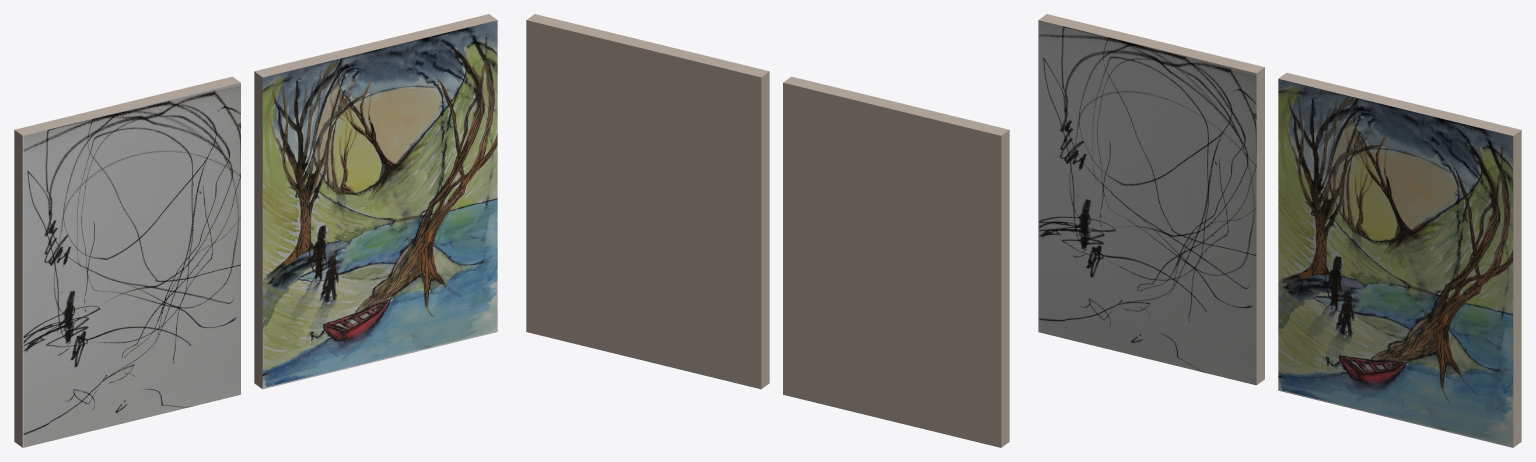
3 renders of one model, left to right at view 1: azimuth 30°, elevation 25°; view 2: azimuth 150°, elevation 25°; view 3: azimuth 330°, elevation 25°, orthographic.
Visible parts, largest first — view 1: Paint.08-1; view 2: Paint.08-1; view 3: Paint.08-1.
Boxes of the visible parts, x1,y1,x2,y2 form: Paint.08-1: (14, 14, 497, 447); Paint.08-1: (526, 14, 1009, 447); Paint.08-1: (1038, 14, 1521, 447).
Size of the model in its own units: 0.982 by 0.6169 by 0.03.
3 materials, 2 textured.
